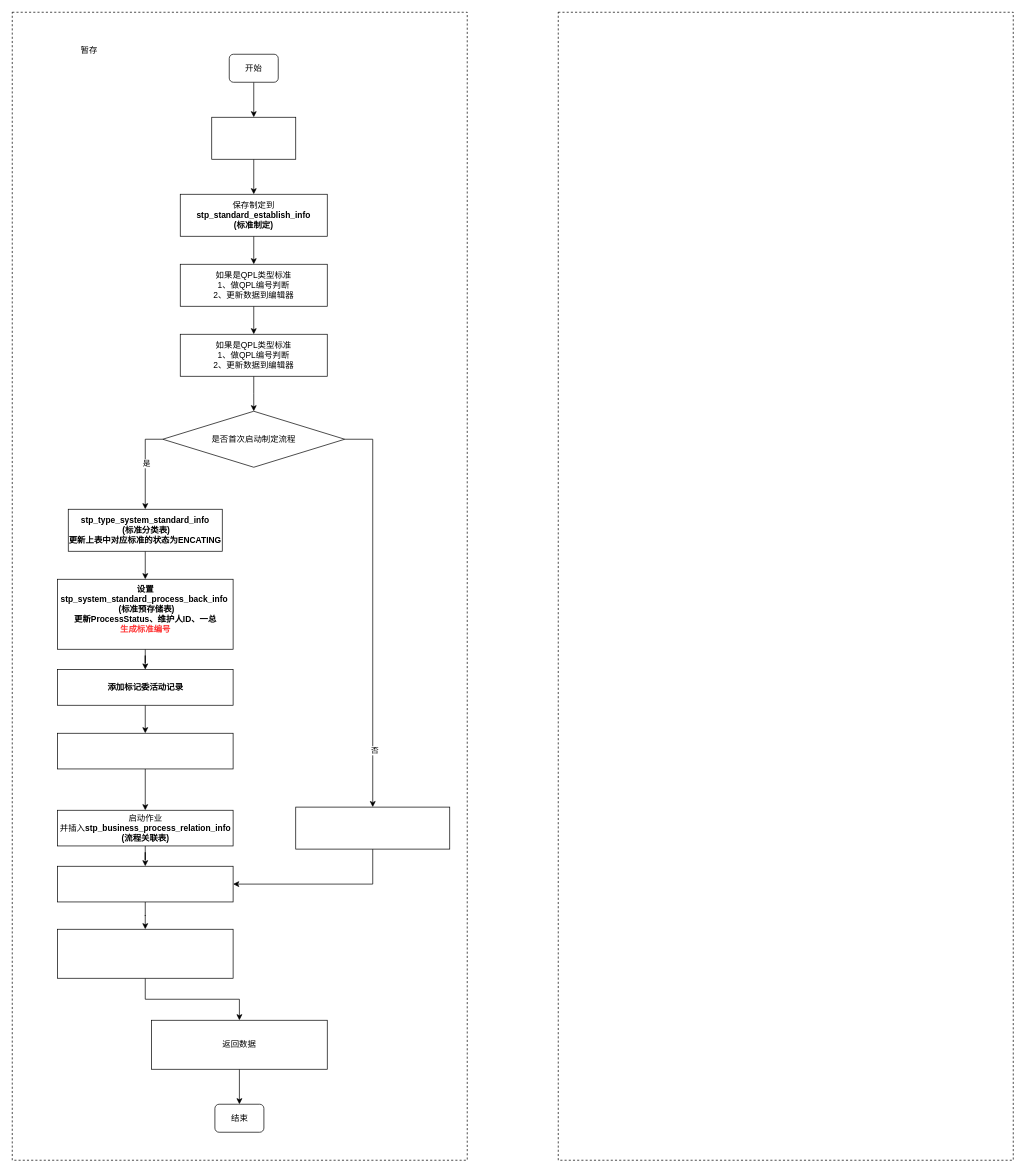
Some shapes in this 1026 by 1173 pixel diagram are drawn without their labels. The shapes that lost their labels are listed below. From the top down, each one's centre as x and y in pixels, then its label:
the point at 253,138: 校验标准名称
the point at 785,586: 预创建
the point at 145,751: 设置 QPLFlag与standardProcessBackInfo的id 更新 stp_standard_establish_info (标准制定)
the point at 372,827: 更新 stp_system_standard_process_back_info
the point at 145,884: 更新立项附件
the point at 145,953: 获取流程ID 并更新 stp_business_process_relation_info (流程关联表)
